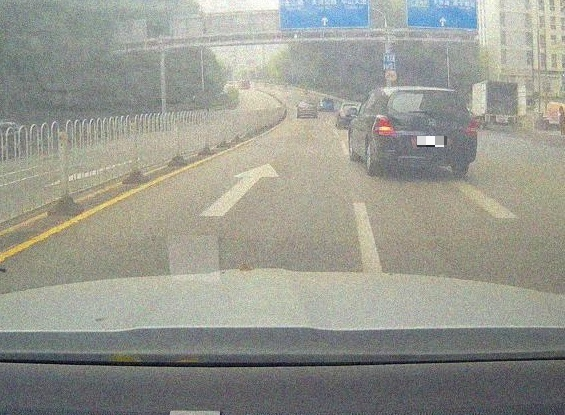L_light: (372, 114, 398, 138)
R_light: (463, 116, 477, 138)
T_light: (415, 89, 437, 94)
day-left: (369, 88, 477, 178)
plate_1: (417, 136, 447, 147)
